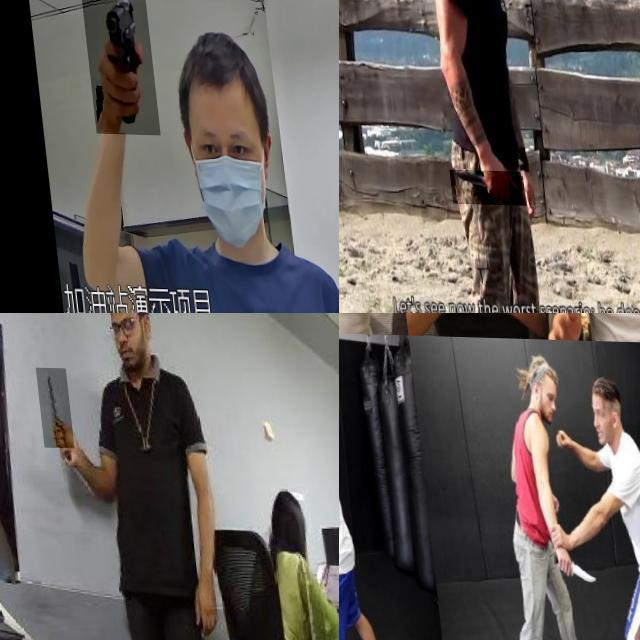-: (29, 366, 66, 446), (440, 168, 516, 204), (537, 544, 586, 585), (422, 313, 467, 355), (339, 540, 363, 581), (339, 313, 362, 351)
gun-knife-thesis - v11 Yolov5 augmented: (74, 0, 150, 134)
